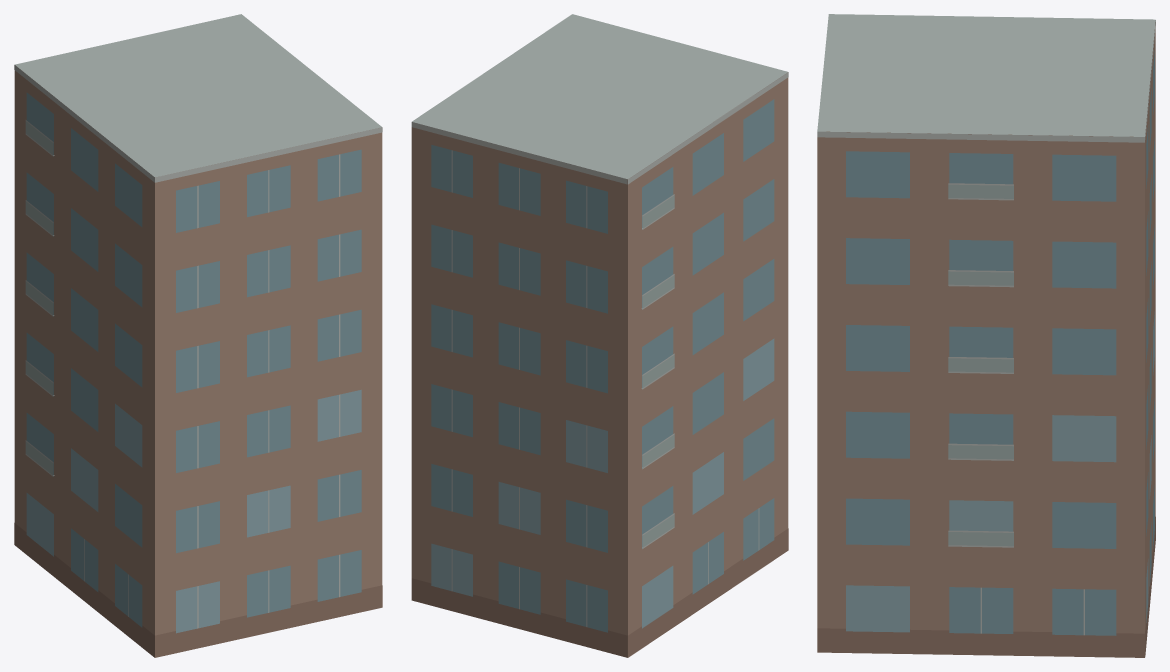
The model's file is survey-upis-32857471.glb.
3 renders of one model, left to right at view 1: azimuth 30°, elevation 25°; view 2: azimuth 150°, elevation 25°; view 3: azimuth 270°, elevation 25°, orthographic. The views are drawn at different scales.
Visible parts, largest first — view 1: survey-upis-32857471.tmp; view 2: survey-upis-32857471.tmp; view 3: survey-upis-32857471.tmp.
Boxes of the visible parts, x1,y1,x2,y2 form: survey-upis-32857471.tmp: (14,14,382,657); survey-upis-32857471.tmp: (411,14,788,657); survey-upis-32857471.tmp: (817,14,1155,657).
Size of the model in its own units: 11.15 by 22 by 12.97.
